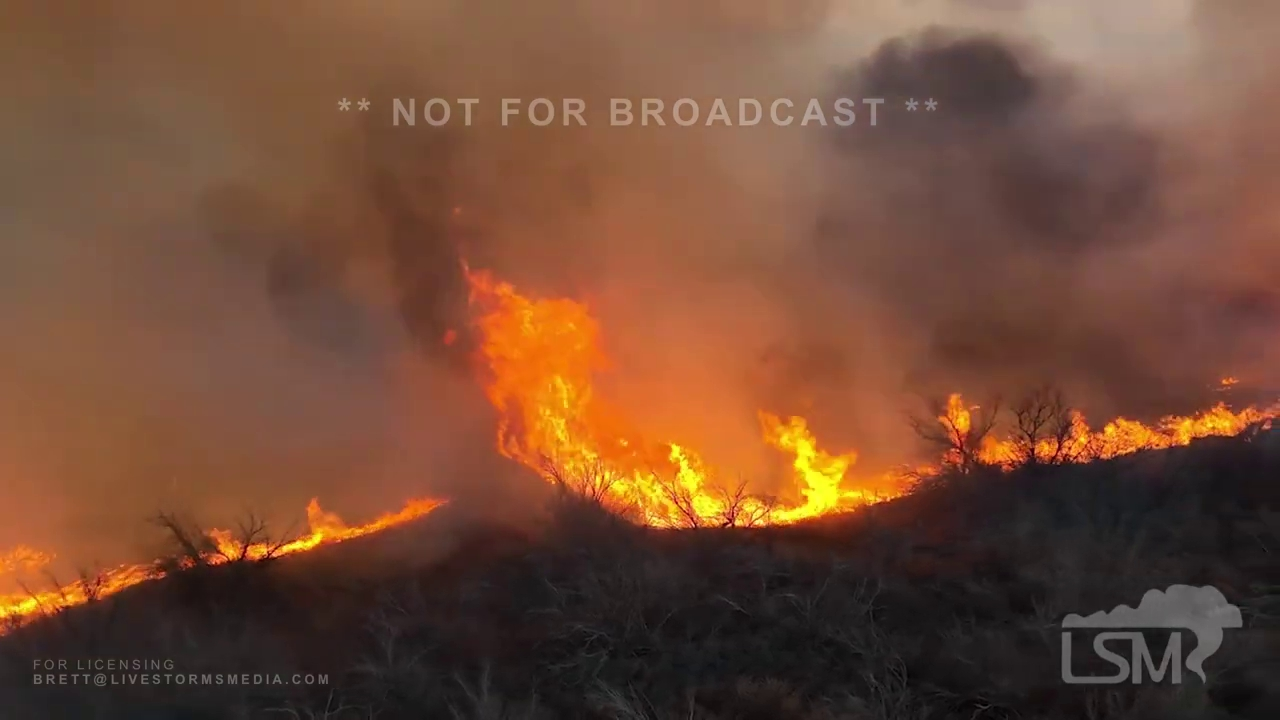forest_fire: (468, 272, 1279, 526), (197, 499, 444, 563), (0, 561, 166, 628), (0, 547, 50, 574)
